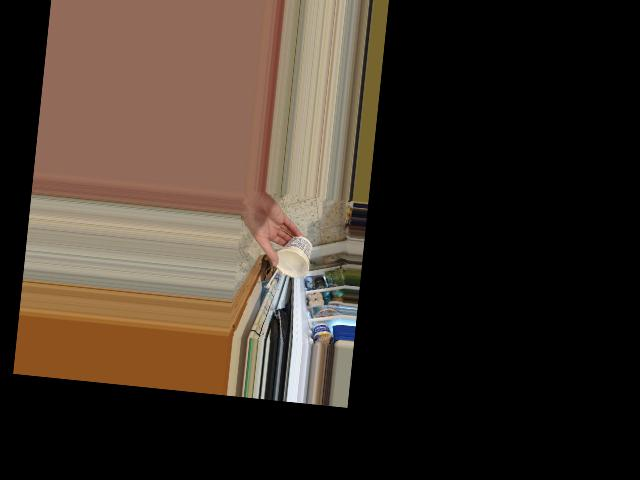cotage: (273, 232, 310, 279)
